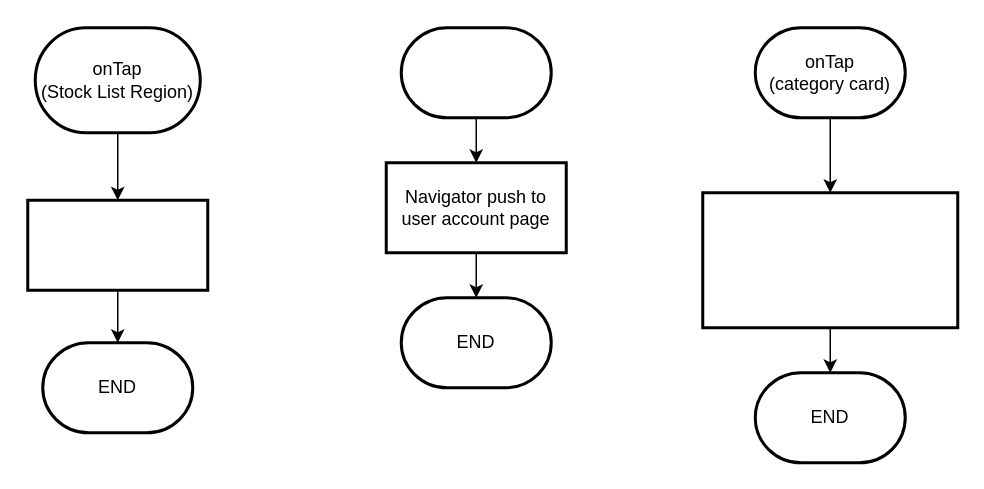
Image size: 984x489. Some labels were removed from this diagram. The centre of each missing label's shape, as x and y in pixels:
Navigator push to FullStockPage: point 117,244
Navigator push to UserCategorySubpage (category = category tapped): point 829,259
OnTap (Profile Picture): point 475,72
